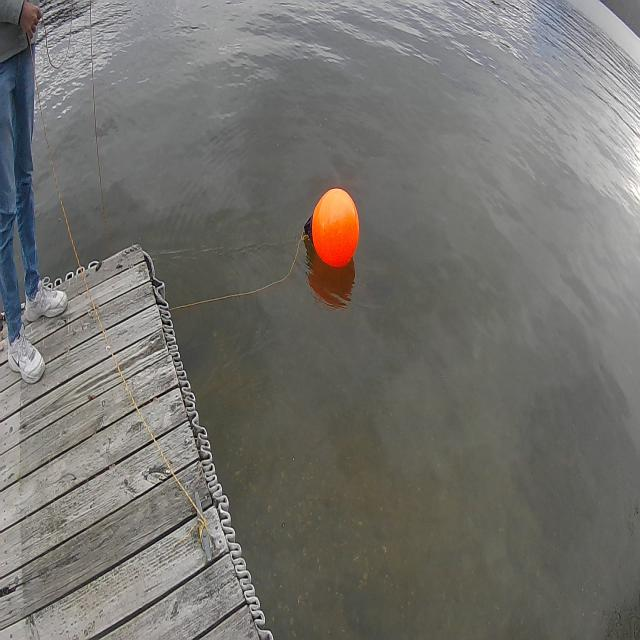Buoy: (300, 180, 364, 274)
